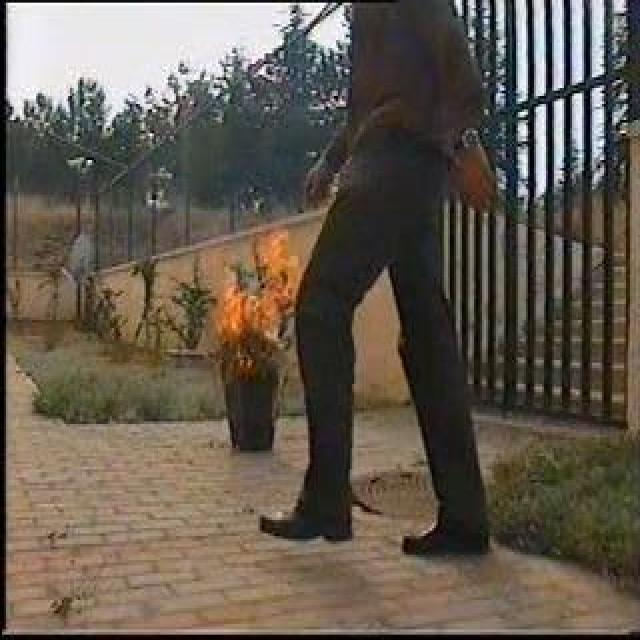fire: (214, 235, 304, 347)
